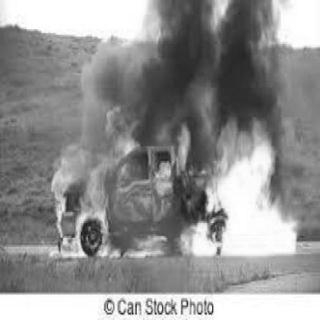Fire: (46, 122, 302, 256)
Smoke: (91, 2, 280, 114)
